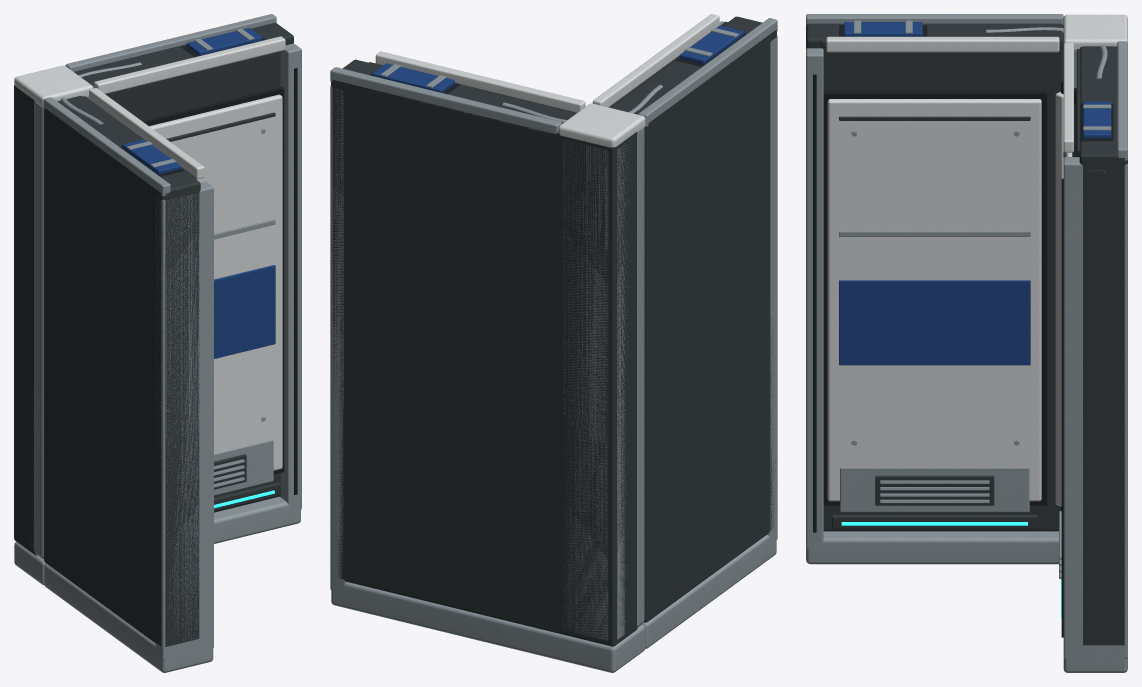
File: 02_inside_corner.gltf
3 views of the same model, side by side, from view 1: azimuth 30°, elevation 25°; view 2: azimuth 150°, elevation 25°; view 3: azimuth 270°, elevation 25° (orthographic). The views are drawn at different scales.
Parts seen in each view (by area): view 1: 02_Cryo_Anodized_Frame, 02_Cryo_Brushed_Steel, 02_Cryo_Ceramic_Enamel, 02_Cryo_Cobalt_Enamel, 02_Cryo_EPDM_Gasket; view 2: 02_Cryo_Anodized_Frame, 02_Cryo_Brushed_Steel, 02_Cryo_Ceramic_Enamel, 02_Cryo_Cobalt_Enamel; view 3: 02_Cryo_Ceramic_Enamel, 02_Cryo_Anodized_Frame, 02_Cryo_Brushed_Steel, 02_Cryo_Cobalt_Enamel, 02_Cryo_EPDM_Gasket, 02_Cryo_Cyan_Practical.
Boxes of the visible parts, box(x1,y1,x2,y2) form: 02_Cryo_Anodized_Frame: box(14, 22, 293, 646); 02_Cryo_Brushed_Steel: box(14, 14, 301, 672); 02_Cryo_Ceramic_Enamel: box(14, 36, 285, 470); 02_Cryo_Cobalt_Enamel: box(122, 28, 275, 358); 02_Cryo_EPDM_Gasket: box(120, 37, 297, 494); 02_Cryo_Anodized_Frame: box(331, 16, 776, 646); 02_Cryo_Brushed_Steel: box(330, 18, 777, 672); 02_Cryo_Ceramic_Enamel: box(375, 14, 719, 147); 02_Cryo_Cobalt_Enamel: box(372, 25, 743, 92); 02_Cryo_Ceramic_Enamel: box(826, 14, 1127, 506); 02_Cryo_Anodized_Frame: box(806, 23, 1127, 645); 02_Cryo_Brushed_Steel: box(806, 14, 1127, 672); 02_Cryo_Cobalt_Enamel: box(839, 22, 1111, 365); 02_Cryo_EPDM_Gasket: box(813, 25, 1113, 637); 02_Cryo_Cyan_Practical: box(841, 522, 1061, 618).
Bounding box in the file's own units: 2 × 3.6 × 2.
6 materials, 5 textured.
